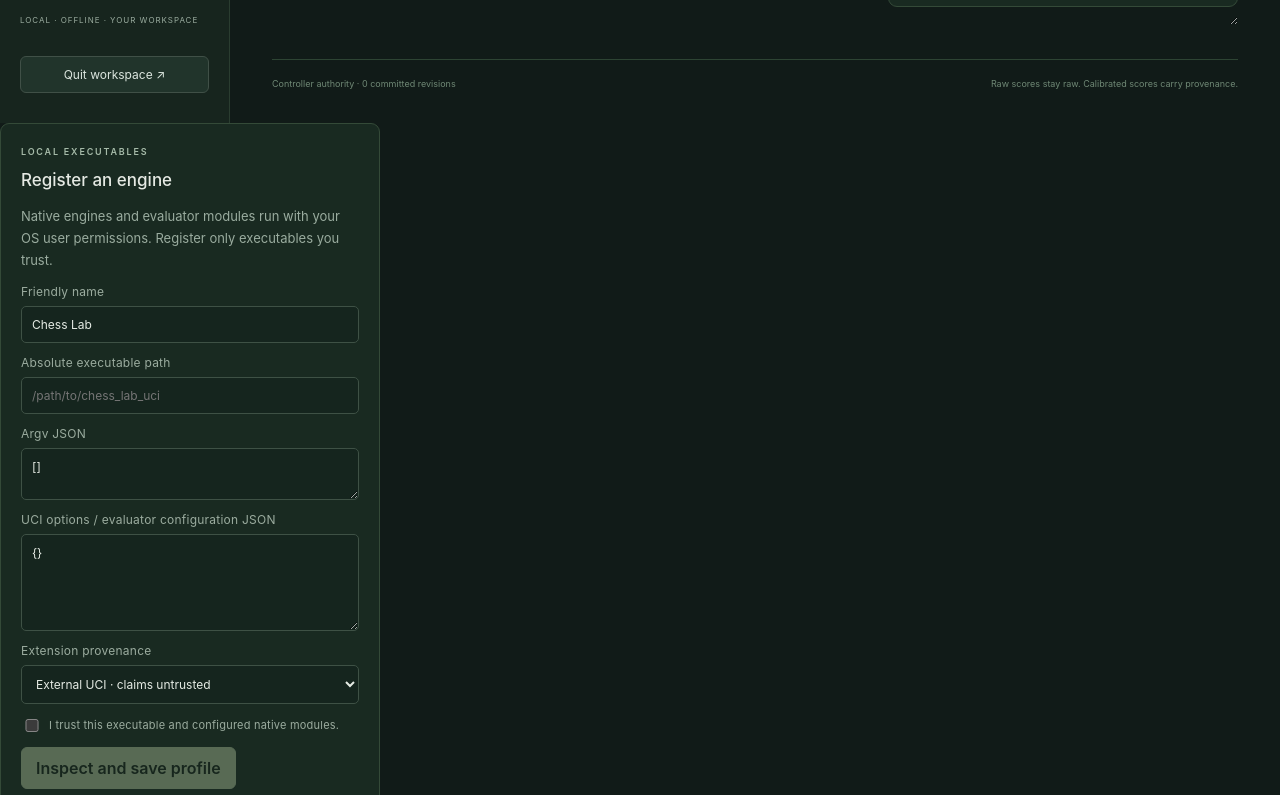
Test case: requires explicit trust before native executable inspection
The width and height of the screenshot is (1280, 795).
(page scrolled)
Type "/trusted/engine" into the field labelled "Absolute executable path" at {"x": 190, "y": 395}, box [21,377,359,414]
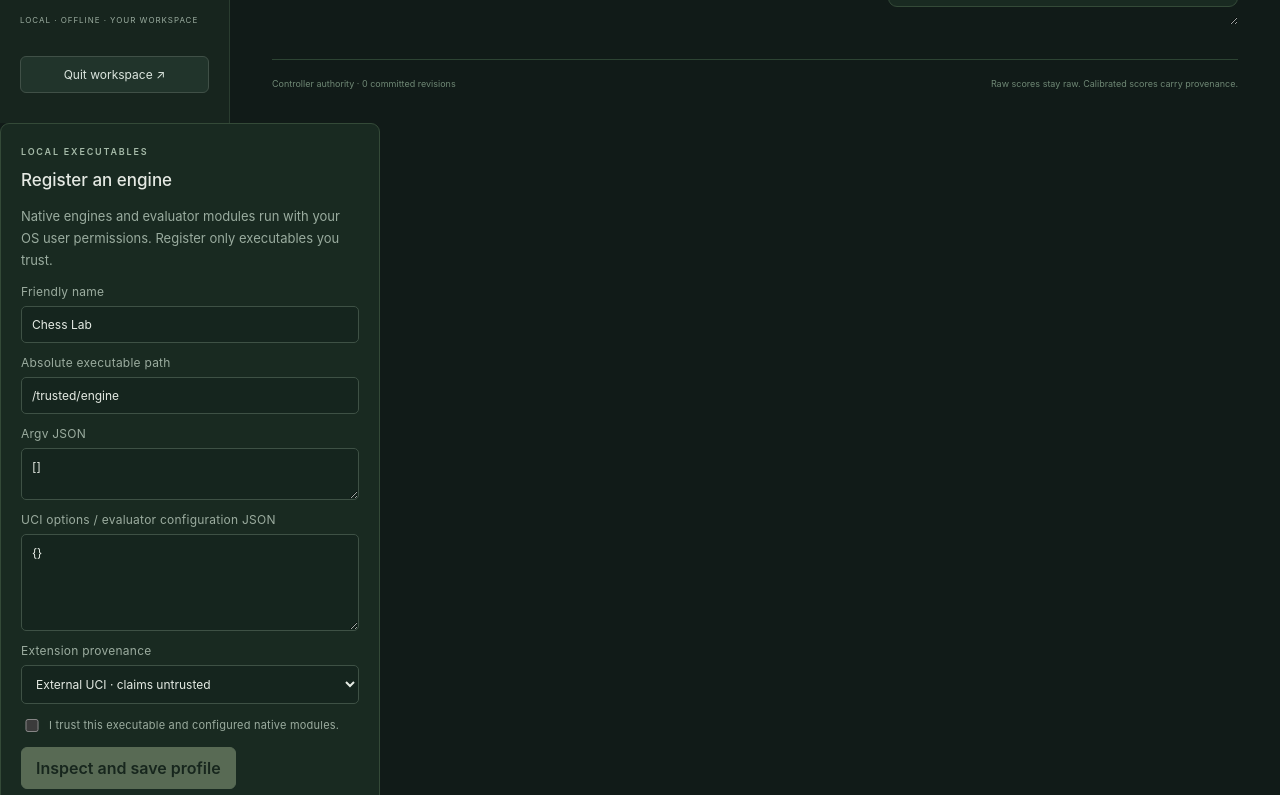
Check: the button "Inspect and save profile" is disabled, box [21,747,236,789]
Click the checkbox labelled "I trust this executable and configured native modules." at {"x": 32, "y": 725}, box [25,719,39,732]
(page scrolled)
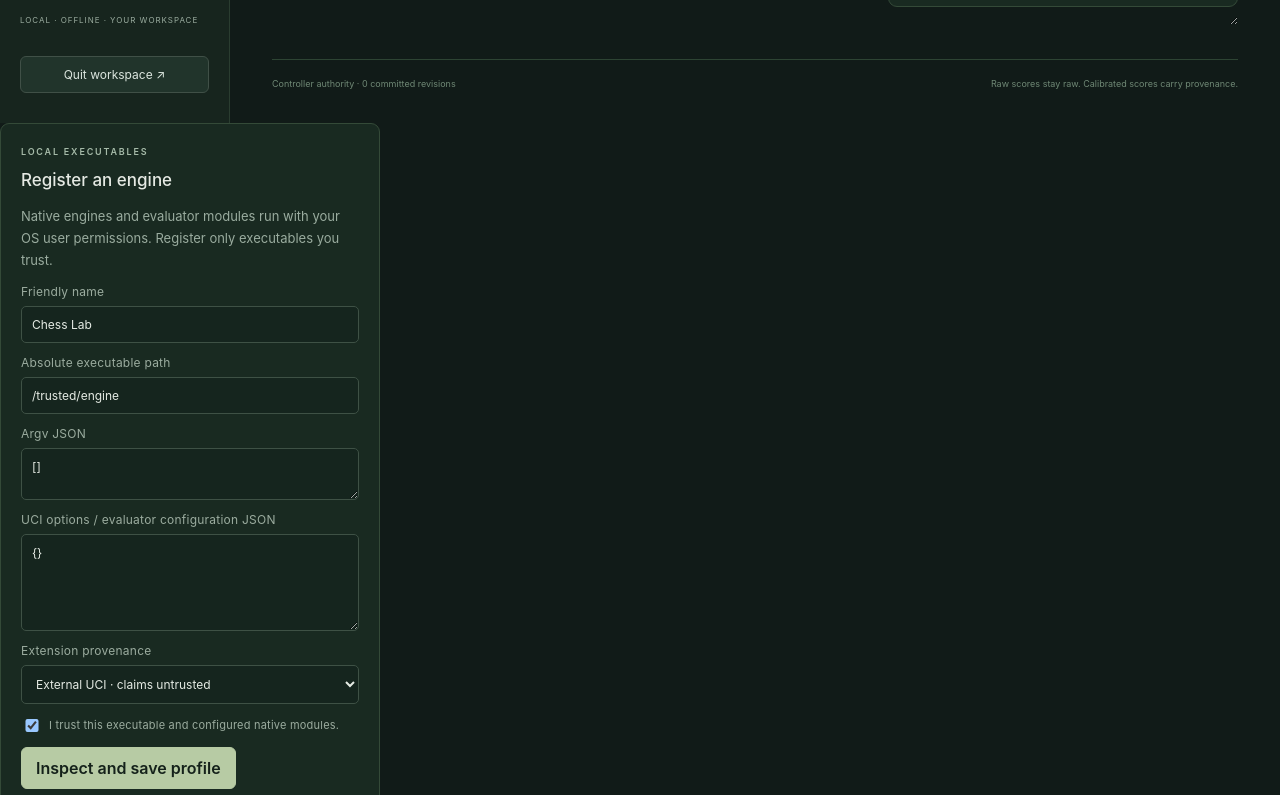
Check: the button "Inspect and save profile" is enabled, box [21,747,236,789]
